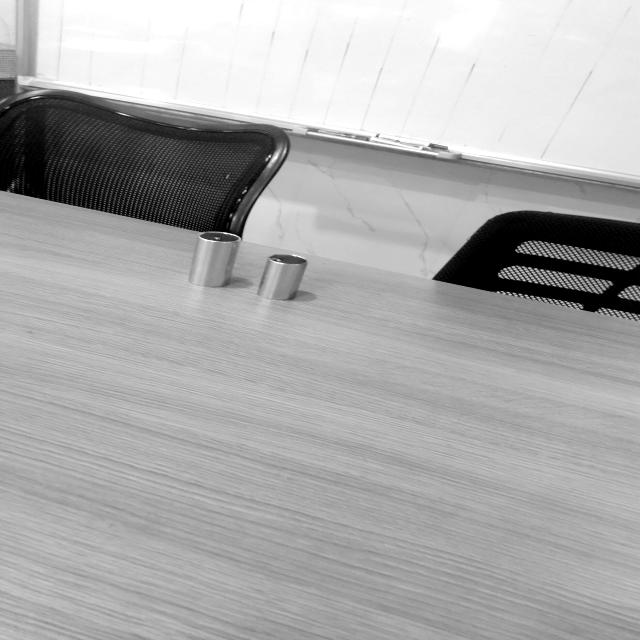Co_Lon: (187, 226, 242, 293)
Co_Nho: (254, 246, 309, 308)
